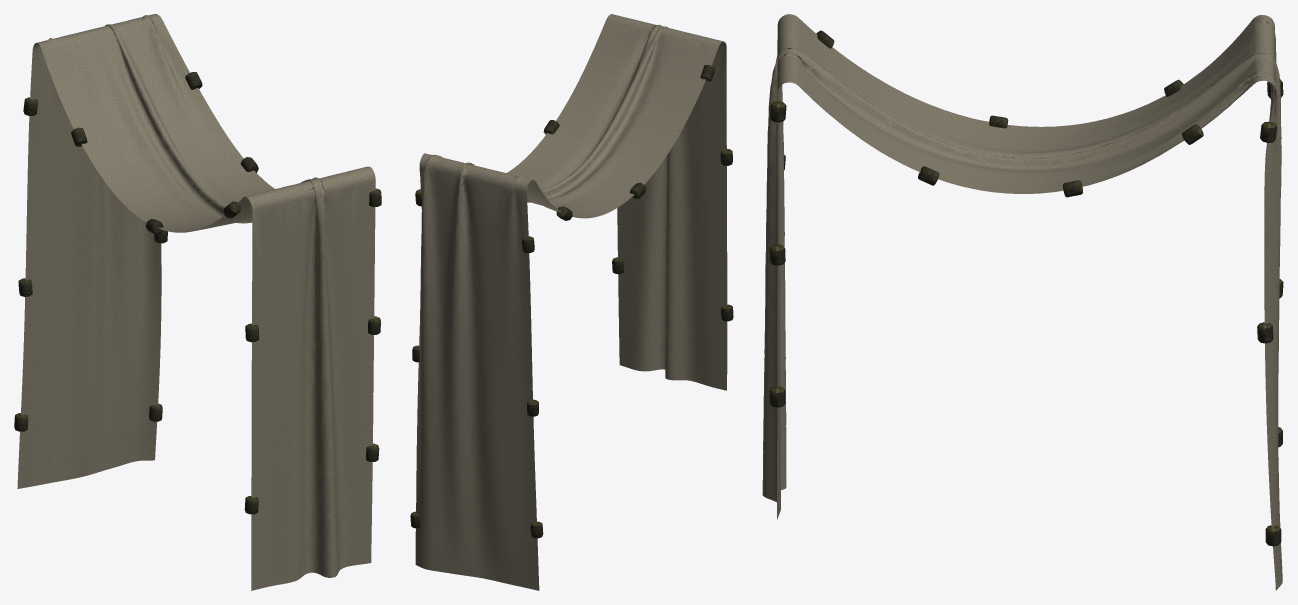
Rendered from SM_Fish_net_4_01.fbx.
3 renders of one model, left to right at view 1: azimuth 30°, elevation 25°; view 2: azimuth 150°, elevation 25°; view 3: azimuth 270°, elevation 25°, orthographic. The views are drawn at different scales.
Visible parts, largest first — view 1: SM_Fish_net_4_01_LOD0; view 2: SM_Fish_net_4_01_LOD0; view 3: SM_Fish_net_4_01_LOD0.
Boxes of the visible parts, x1,y1,x2,y2 form: SM_Fish_net_4_01_LOD0: (14,14,381,590); SM_Fish_net_4_01_LOD0: (410,14,733,590); SM_Fish_net_4_01_LOD0: (762,14,1283,590).
Bounding box in the file's own units: 109 × 288 × 312.
2 materials, 2 textured.
